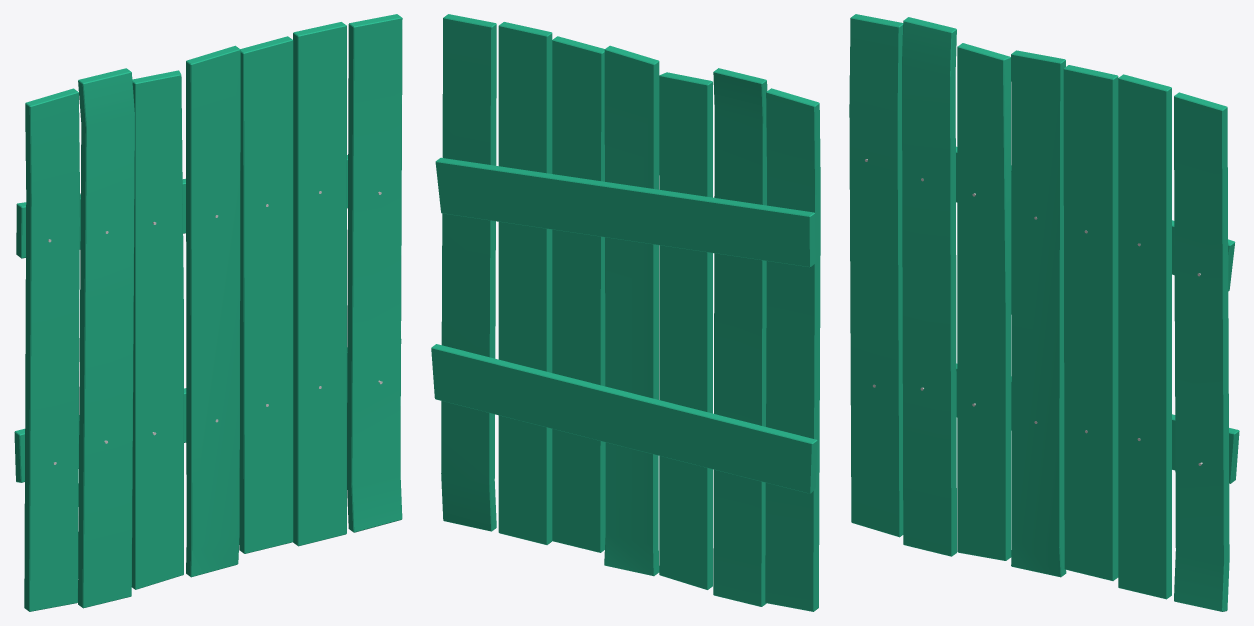
File: plywood_set_1.FBX
3 views of the same model, side by side, from view 1: azimuth 30°, elevation 25°; view 2: azimuth 150°, elevation 25°; view 3: azimuth 330°, elevation 25° (orthographic).
Parts seen in each view (by area): view 1: plywood_multi_rc; view 2: plywood_multi_rc; view 3: plywood_multi_rc.
Boxes of the visible parts, box(x1,y1,x2,y2) form: plywood_multi_rc: box(14, 14, 402, 611); plywood_multi_rc: box(431, 14, 820, 611); plywood_multi_rc: box(849, 14, 1239, 611).
Bounding box in the file's own units: 77.74 × 102 × 5.02.
